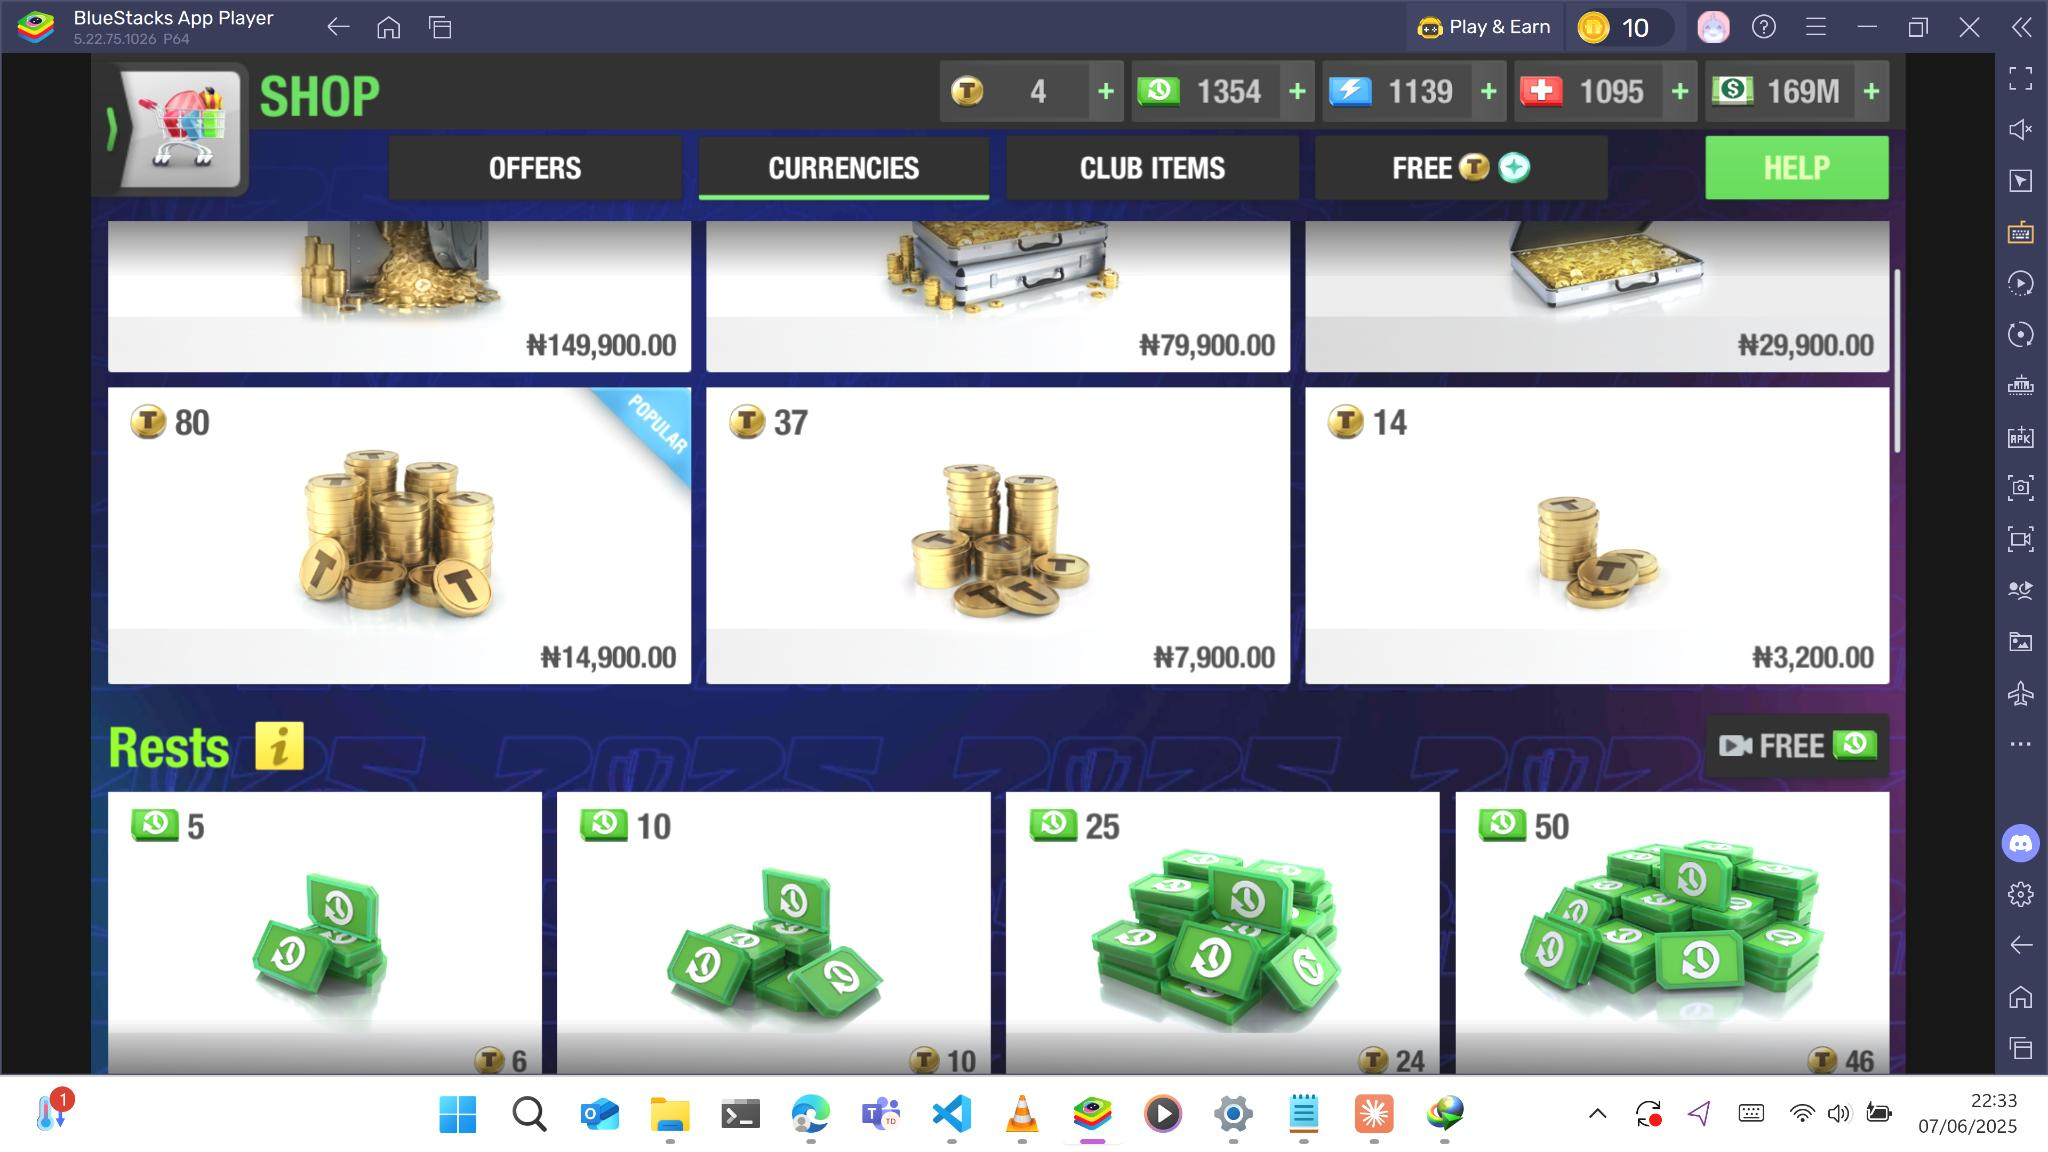no_ads_green: (1705, 713, 1889, 778)
